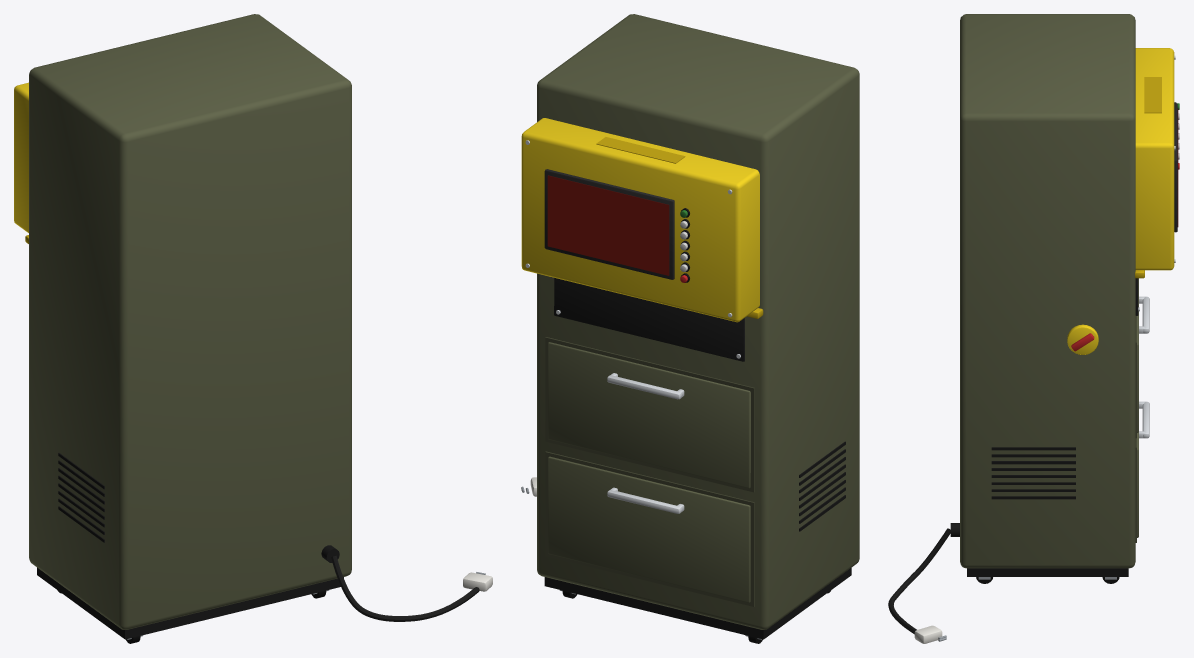
Rendered from abs-panel.glb.
The picture shows the model from 3 angles, left to right: view 1: azimuth 30°, elevation 25°; view 2: azimuth 150°, elevation 25°; view 3: azimuth 270°, elevation 25°; orthographic projection. The views are drawn at different scales.
Parts seen in each view (by area): view 1: Body; view 2: Body; view 3: Body.
Boxes of the visible parts, x1,y1,x2,y2 form: Body: (14,14,492,643); Body: (521,14,859,643); Body: (888,14,1179,643).
Size of the model in its own units: 1.06 by 1.5 by 0.8308.
